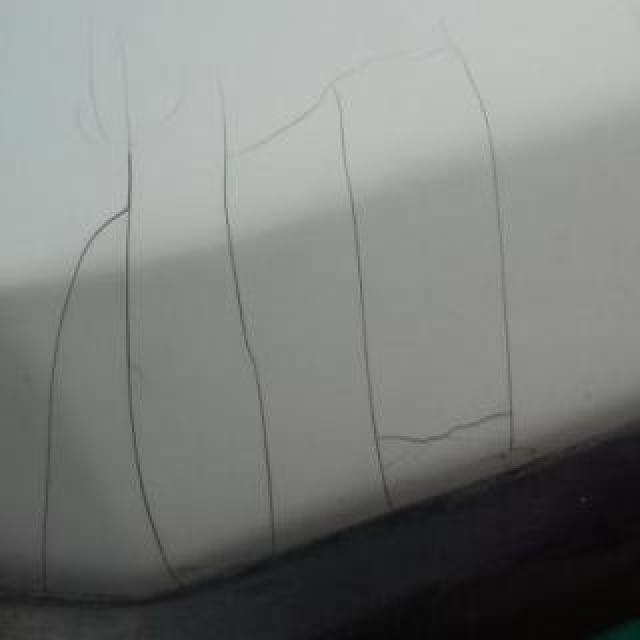crack: (233, 77, 397, 515), (37, 137, 189, 595), (378, 30, 518, 462), (218, 72, 280, 560)
